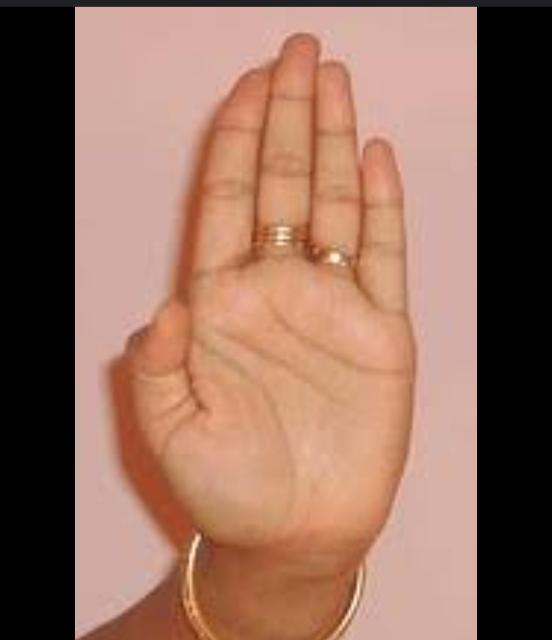pataka: (130, 36, 412, 550)
